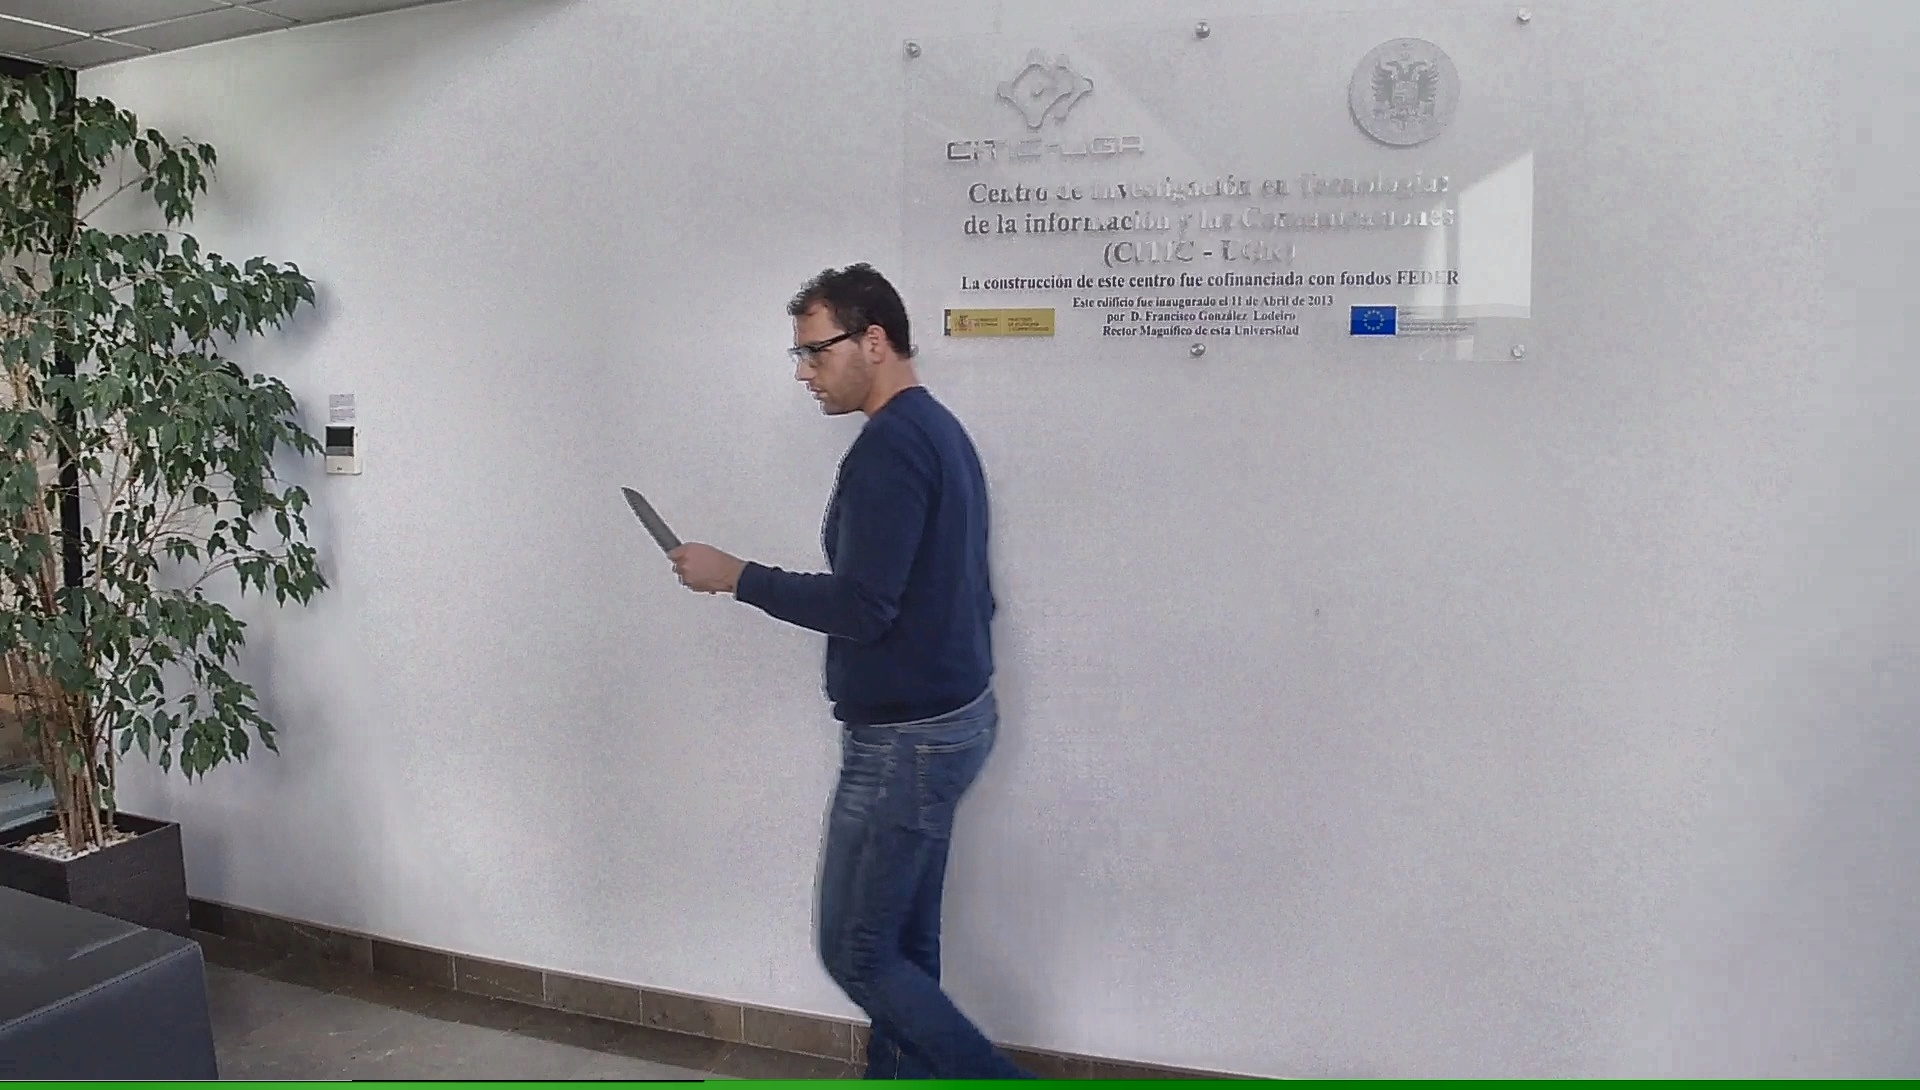knife: (611, 478, 704, 584)
